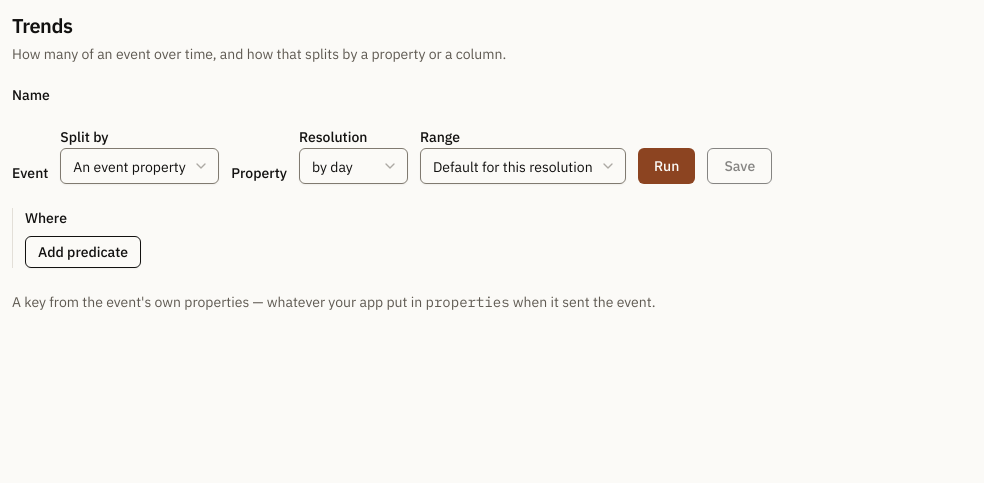
Test case: Trends › says nothing about folding when nothing was folded
Click the button "Run": (667, 166) [638,148,695,184]
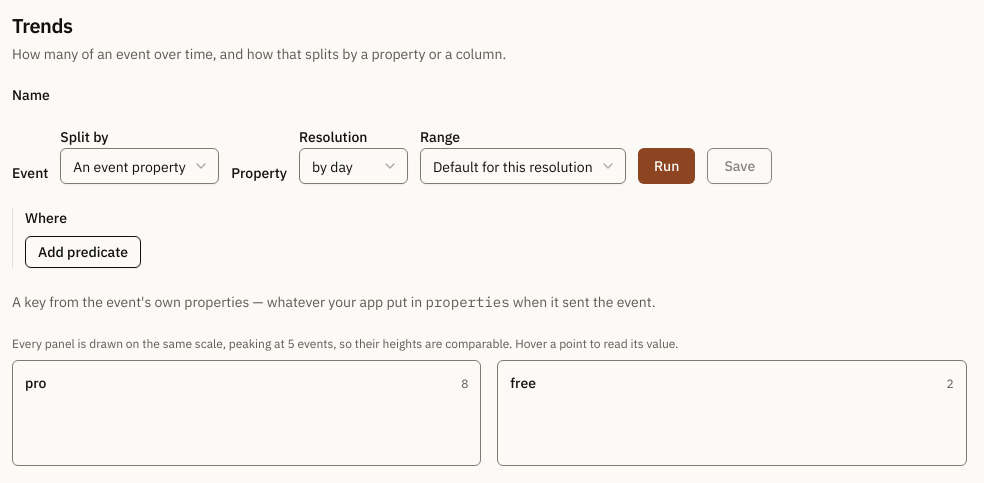
Expected: the element with test id "trend-panels" is shown, [12,336,967,466]
